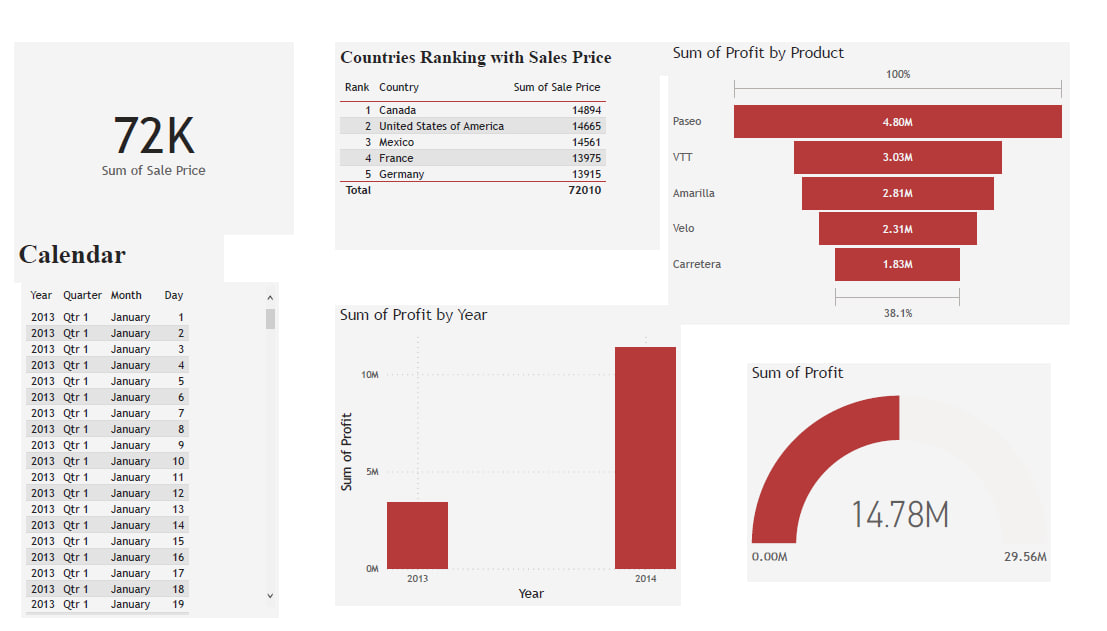

The dashboard page shown, as its layout file describes it:
{"tool":"powerbi","page":{"name":"Page 4","canvas":[1280,720],"ordinal":3},"visuals":[{"type":"tableEx","fields":{"Values":["CountryRanking.Rank","CountryRanking.Country","Sum(financials.Sale Price)"]},"box":[383,73.9,386.4,208.3],"z":0},{"type":"card","fields":{"Values":["Sum(financials.Sale Price)"]},"box":[0,35.3,332.6,228.5],"z":1000},{"type":"tableEx","fields":{"Values":["Calendar.Date.Variation.Date Hierarchy.Year","Calendar.Date.Variation.Date Hierarchy.Quarter","Calendar.Date.Variation.Date Hierarchy.Month","Calendar.Date.Variation.Date Hierarchy.Day"]},"box":[8.4,320.8,305.7,399.8],"z":2000},{"type":"textbox","box":[383,35.3,409.9,38.6],"z":3000},{"type":"textbox","box":[0,263.7,248.6,57.1],"z":4000},{"type":"columnChart","fields":{"Category":["Calendar.Date.Variation.Date Hierarchy.Year"],"Y":["Sum(financials.Profit)"]},"box":[383,347.7,409.9,357.8],"z":5000},{"type":"funnel","fields":{"Y":["Sum(financials.Profit)"],"Category":["financials.Product"]},"box":[779.4,35.3,477.1,336],"z":6000},{"type":"gauge","fields":{"Y":["Sum(financials.Profit)"]},"box":[873.5,416.6,361.2,260.4],"z":7000}]}

Visuals, with their boxes in screenshot pixels (x1, y1, x2, y2), scaled from the page's 1280x720 canvas onto the 1107x631 screenshot:
tableEx - CountryRanking.Rank x CountryRanking.Country: box(331, 65, 665, 247)
card - Sum(financials.Sale Price): box(0, 31, 288, 231)
tableEx - Calendar.Date.Variation.Date Hierarchy.Year x Calendar.Date.Variation.Date Hierarchy.Quarter: box(7, 281, 272, 630)
textbox: box(331, 31, 686, 65)
textbox: box(0, 231, 215, 281)
columnChart - Calendar.Date.Variation.Date Hierarchy.Year x Sum(financials.Profit): box(331, 305, 686, 618)
funnel - Sum(financials.Profit) x financials.Product: box(674, 31, 1087, 325)
gauge - Sum(financials.Profit): box(755, 365, 1068, 593)
